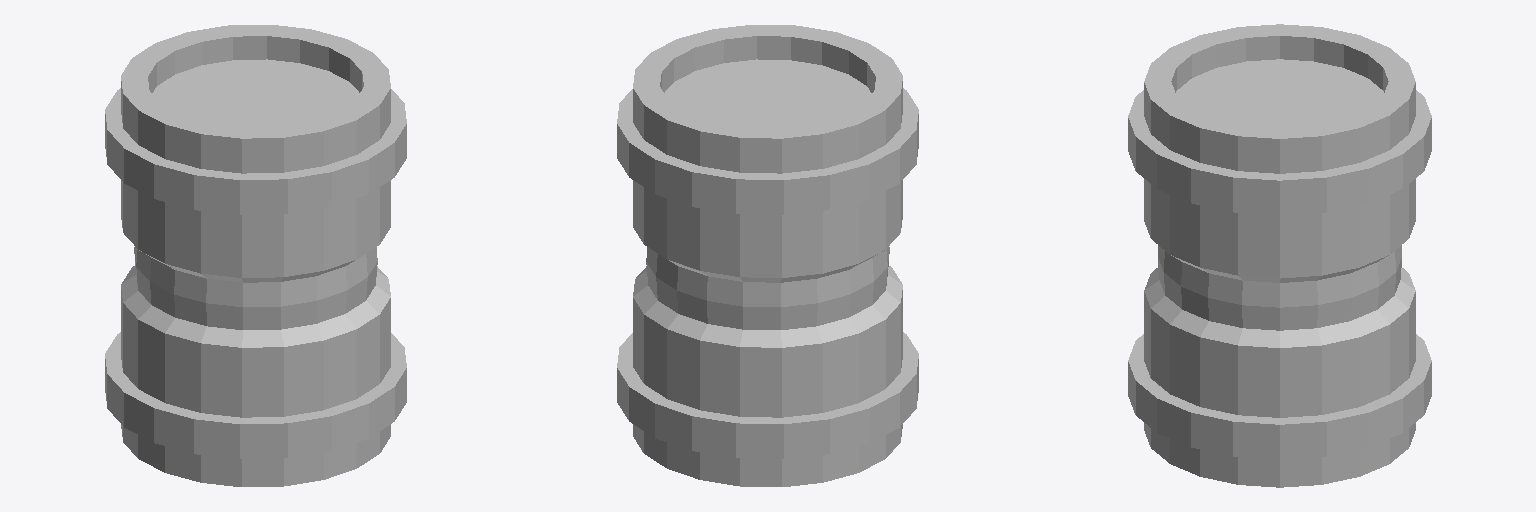
The model's file is Biofuel_Cannister.obj.
3 views of the same model, side by side, from view 1: azimuth 30°, elevation 25°; view 2: azimuth 150°, elevation 25°; view 3: azimuth 270°, elevation 25° (orthographic).
Parts seen in each view (by area): view 1: Biofuel_Cannister; view 2: Biofuel_Cannister; view 3: Biofuel_Cannister.
Part boxes in pixels (left/top/right/bottom): Biofuel_Cannister: left=105, top=25, right=406, bottom=486; Biofuel_Cannister: left=617, top=25, right=918, bottom=486; Biofuel_Cannister: left=1128, top=24, right=1431, bottom=487.
Size of the model in its own units: 1.47 by 1.86 by 1.47.